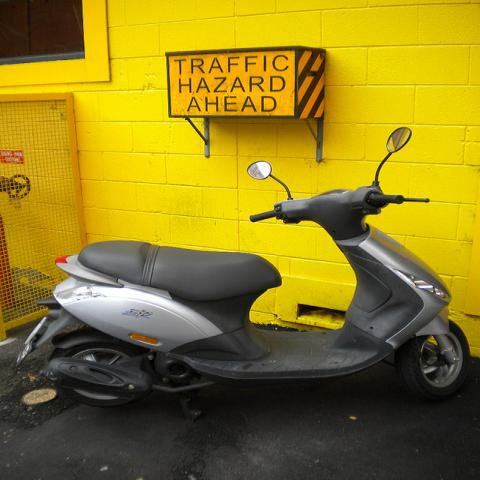motorcycle: (15, 127, 471, 407)
